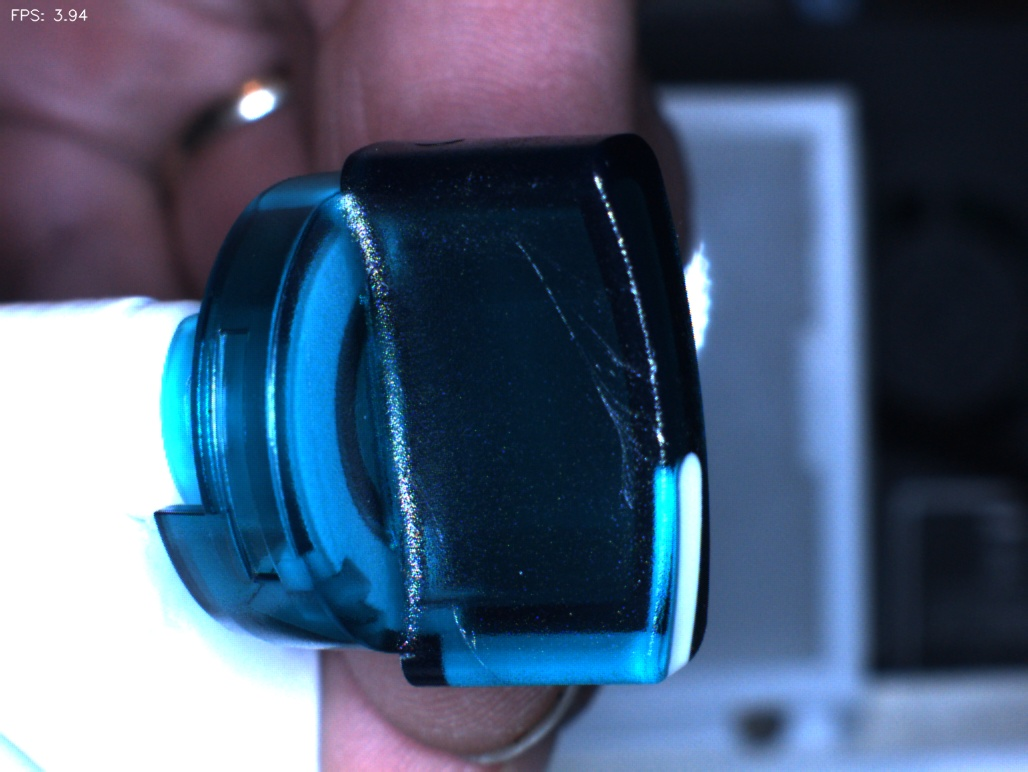Givrage: (511, 244, 670, 513)
